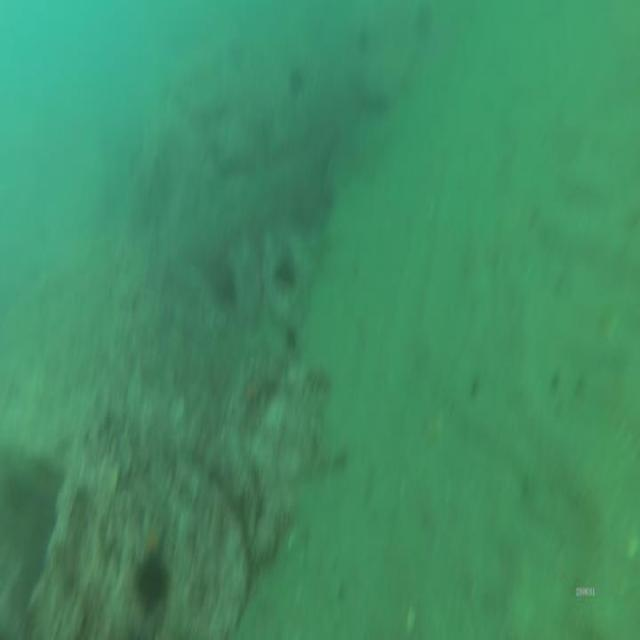echinus: (132, 545, 172, 615)
starfish: (140, 517, 167, 561)
